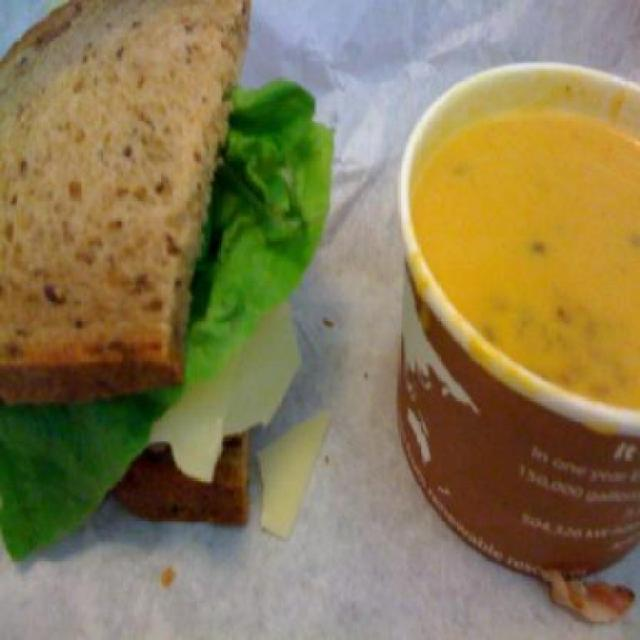Sandwich: (0, 0, 342, 565)
